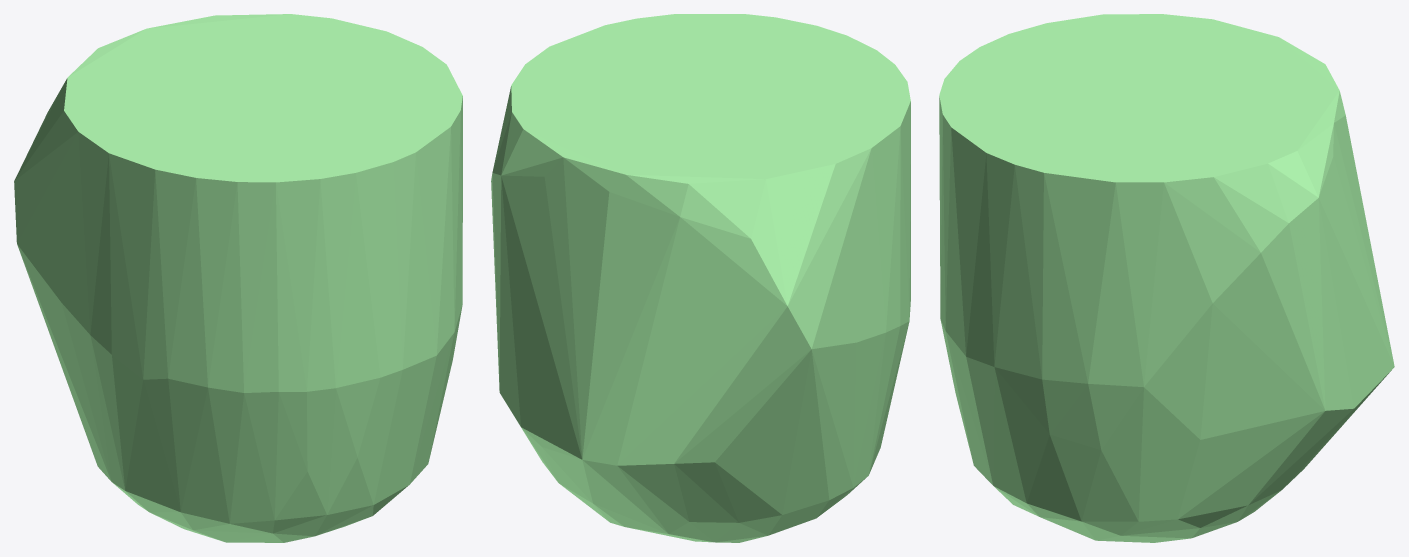
The model's file is exported_panda_link2_resp_coll_3.dae.
3 views of the same model, side by side, from view 1: azimuth 30°, elevation 25°; view 2: azimuth 150°, elevation 25°; view 3: azimuth 270°, elevation 25° (orthographic).
Parts seen in each view (by area): view 1: node; view 2: node; view 3: node.
Boxes of the visible parts, x1,y1,x2,y2 form: node: [14, 14, 462, 542]; node: [491, 14, 910, 542]; node: [939, 14, 1394, 542].
Size of the model in its own units: 0.11 by 0.1289 by 0.1248.
